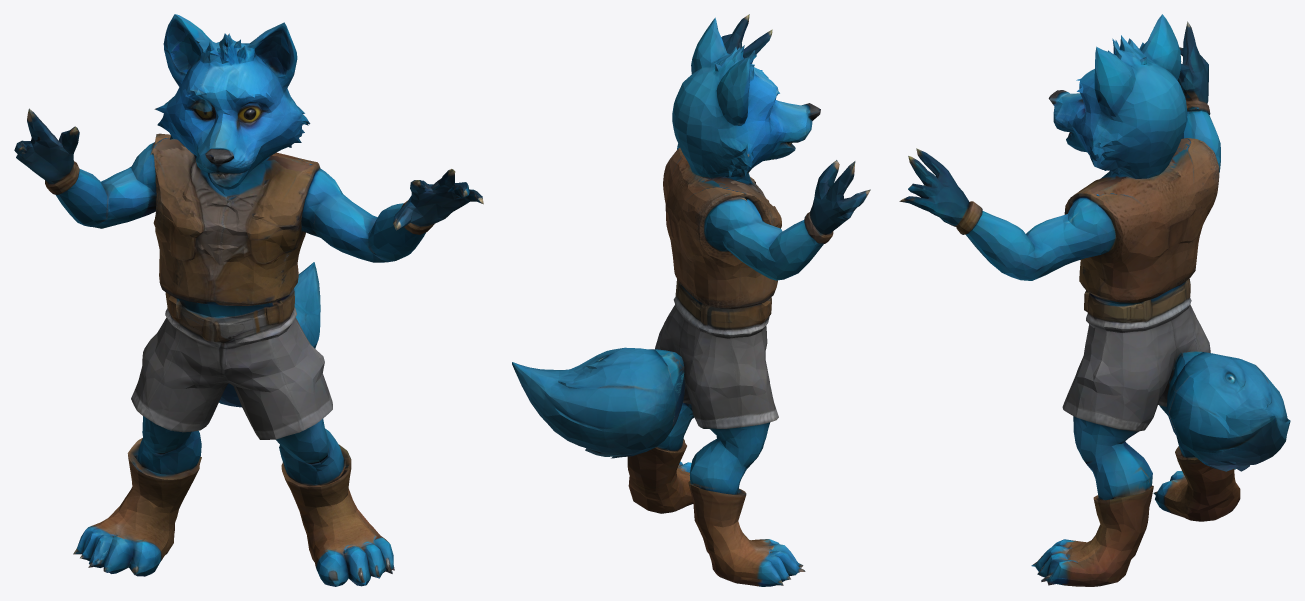
File: humanoid_animal_for_g_0618210059_texture.fbx
The picture shows the model from 3 angles, left to right: view 1: azimuth 30°, elevation 25°; view 2: azimuth 150°, elevation 25°; view 3: azimuth 270°, elevation 25°; orthographic projection. The views are drawn at different scales.
Visible parts, largest first — view 1: temp; view 2: temp; view 3: temp.
Part boxes in pixels (x1,y1,x2,y2): temp: (14, 14, 483, 586); temp: (512, 14, 870, 586); temp: (899, 14, 1290, 586).
Size of the model in its own units: 130 by 200 by 140.
1 material, 1 textured.
